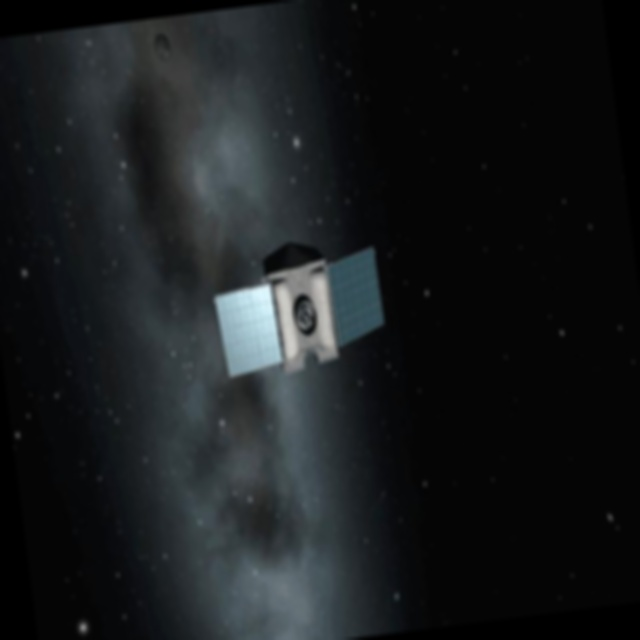satellite: (195, 218, 412, 395)
